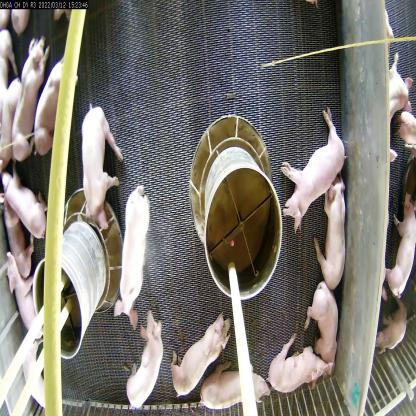Pig: (282, 105, 342, 230), (80, 90, 127, 238), (169, 310, 229, 413), (118, 198, 161, 326), (36, 54, 89, 155), (198, 346, 273, 415), (266, 326, 334, 400), (0, 161, 53, 254), (121, 318, 172, 414), (312, 186, 358, 292), (13, 38, 50, 166), (307, 271, 344, 368), (5, 255, 38, 354)
